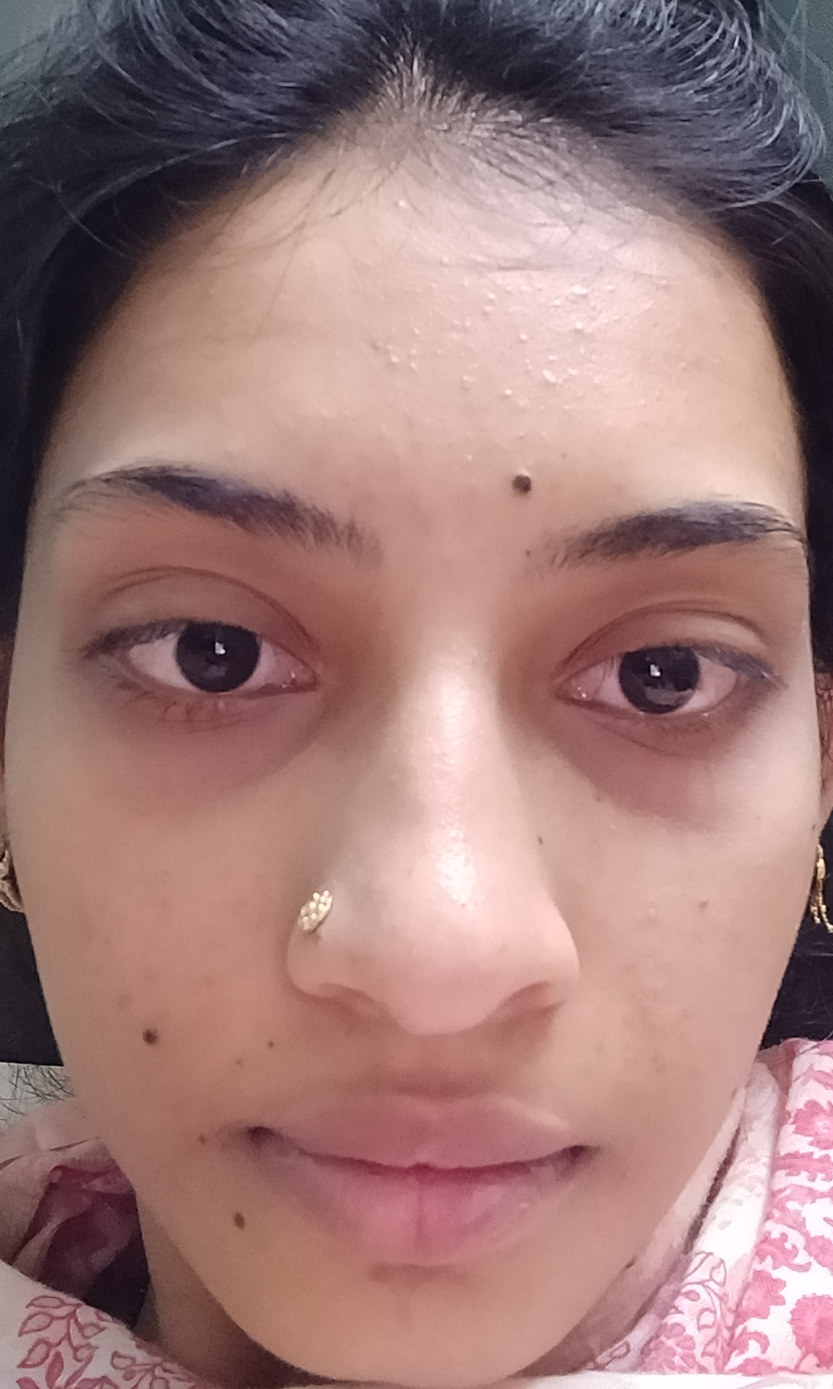closed_comedone: (374, 332, 457, 394), (523, 360, 603, 417), (541, 303, 633, 351), (463, 289, 523, 335)
